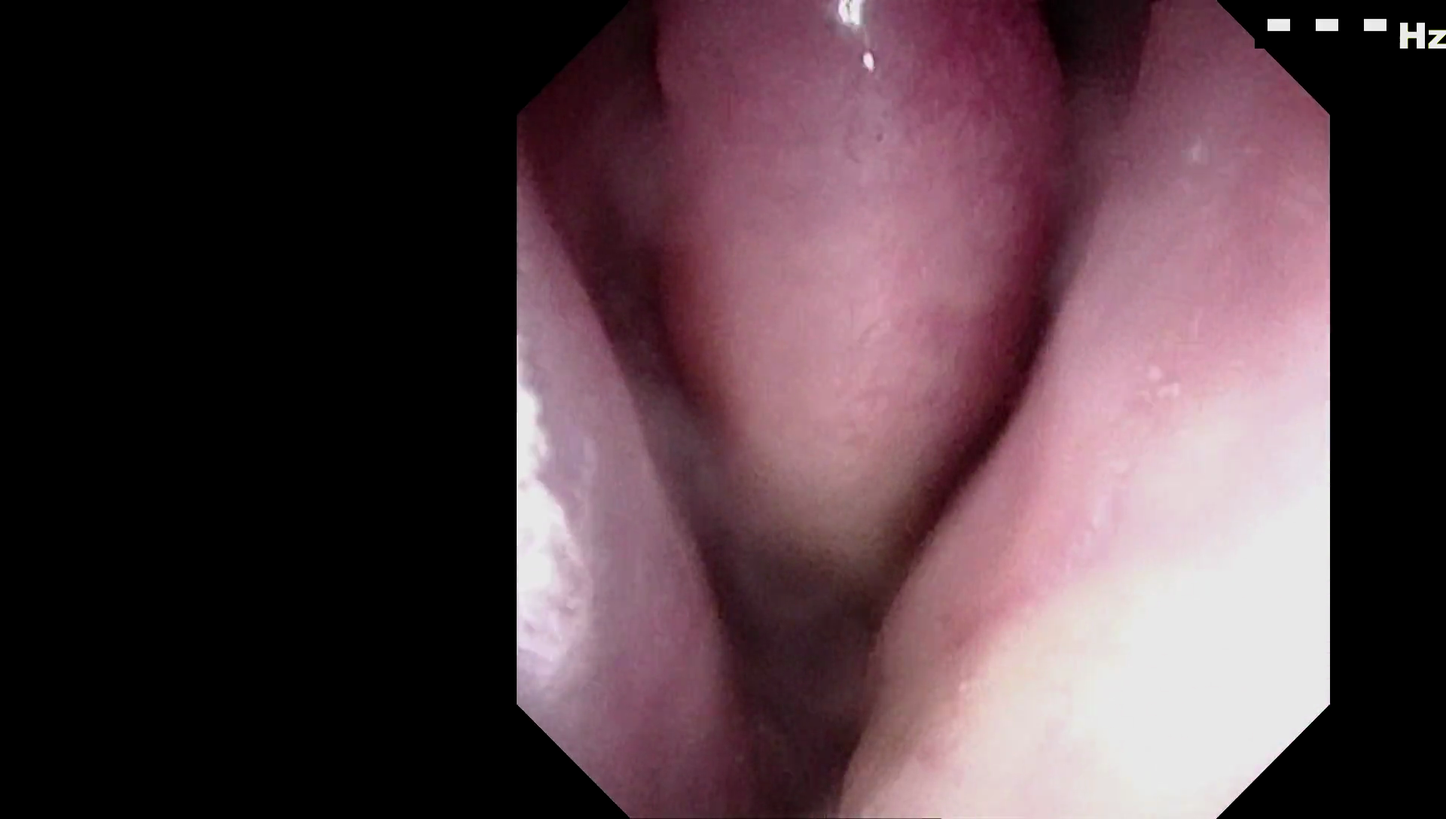close_wall: (934, 372, 1324, 802), (518, 357, 605, 699)
next: (635, 464, 959, 819), (873, 242, 1084, 583), (992, 0, 1132, 141)
